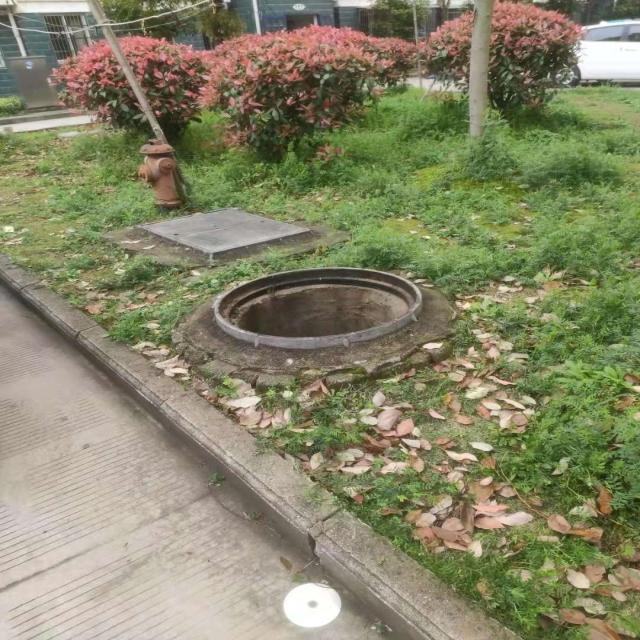Faulty: (209, 264, 423, 350)
Good: (133, 205, 320, 262)
